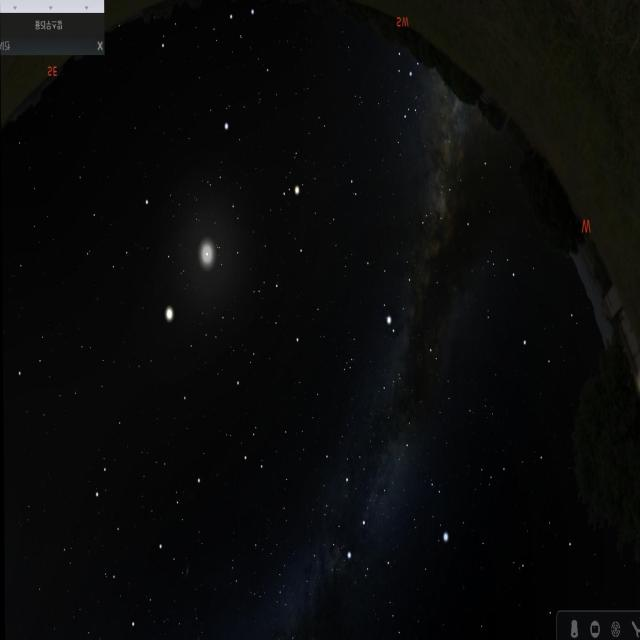aquila: (359, 205, 436, 338)
cygnus: (340, 430, 414, 576)
lyra: (420, 469, 452, 548)
moon: (186, 213, 227, 290)
